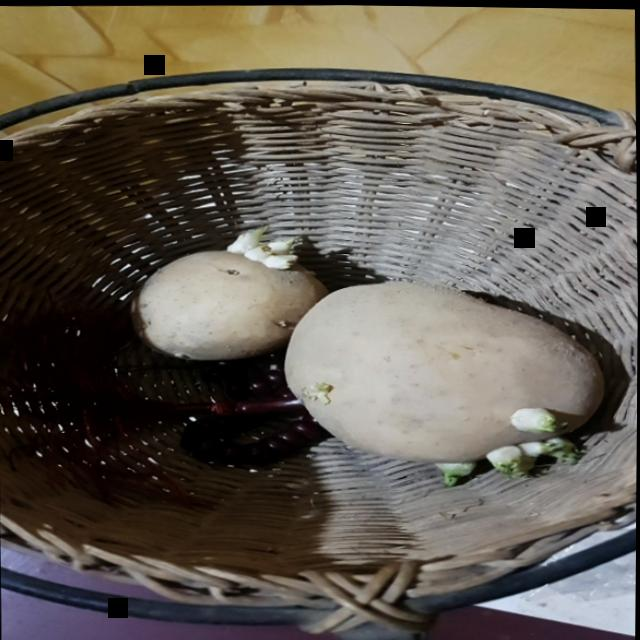potato: (275, 270, 627, 490), (124, 229, 326, 367)
